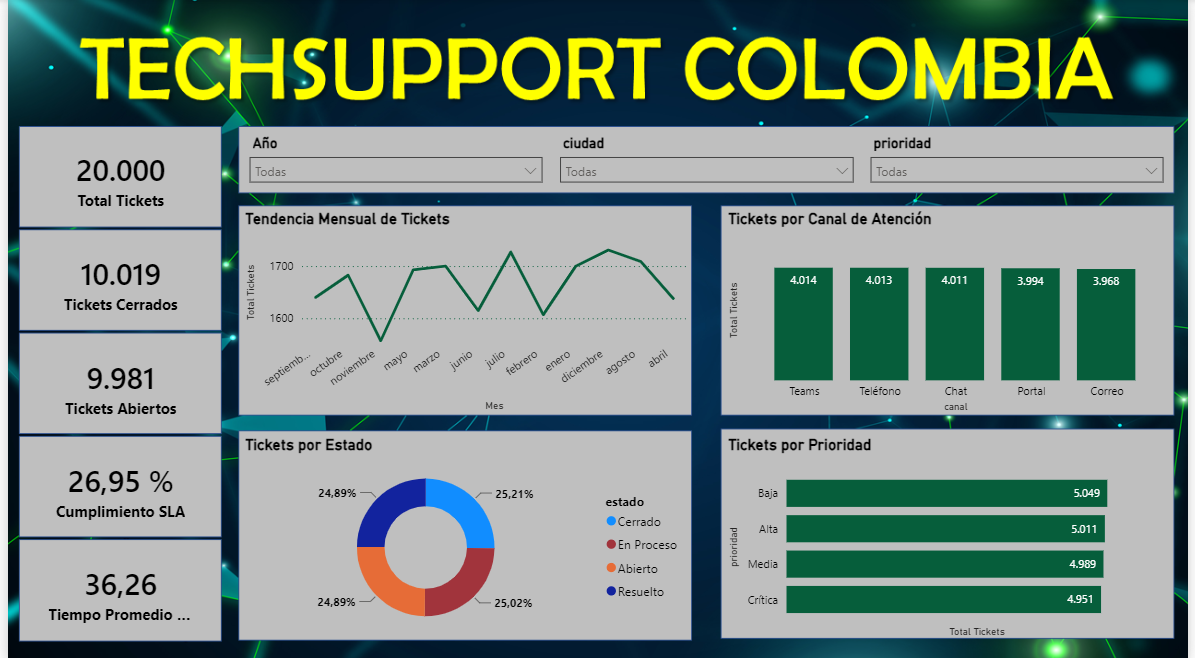

The page's visual inventory and layout, read from the dashboard file:
{"tool":"powerbi","page":{"name":"Resumen Ejecutivo","canvas":[1280,720],"ordinal":0},"visuals":[{"type":"cardVisual","fields":{"Data":["Medidas.Total Tickets"]},"box":[14.5,141.2,215.3,109.9],"z":0},{"type":"cardVisual","fields":{"Data":["Medidas.Tickets Cerrados"]},"box":[14.5,253.4,215.3,110.7],"z":1000},{"type":"cardVisual","fields":{"Data":["Medidas.Tickets Abiertos"]},"box":[14.5,365.6,215.3,110.7],"z":2000},{"type":"cardVisual","fields":{"Data":["Medidas.Cumplimiento SLA"]},"box":[14.5,477.9,215.3,110.7],"z":3000},{"type":"cardVisual","fields":{"Data":["Medidas.Tiempo Promedio"]},"box":[14.5,590.1,215.3,107.6],"z":4000},{"type":"donutChart","title":"Tickets por Estado","fields":{"Category":["tickets.estado"],"Y":["Medidas.Total Tickets"]},"box":[251.9,472.8,487.9,222.7],"z":5000},{"type":"clusteredBarChart","title":"Tickets por Prioridad","fields":{"Category":["tickets.prioridad"],"Y":["Medidas.Total Tickets"]},"box":[775.9,473.3,486.3,222.8],"z":6000},{"type":"lineChart","title":"Tendencia Mensual de Tickets","fields":{"Category":["Calendario.Mes"],"Y":["Medidas.Total Tickets"]},"box":[251.6,228.4,488.1,223.5],"z":7000},{"type":"clusteredColumnChart","title":"Tickets por Canal de Atención","fields":{"Category":["tickets.canal"],"Y":["Medidas.Total Tickets"]},"box":[775.9,227.7,486.3,224.5],"z":8000},{"type":"slicer","fields":{"Values":["Calendario.Date.Variación.Jerarquía de fechas.Año"]},"box":[251.8,141.5,337,68.2],"z":9000},{"type":"slicer","fields":{"Values":["tickets.prioridad"]},"box":[926,141.5,337,69.8],"z":10000},{"type":"slicer","fields":{"Values":["usuarios.ciudad"]},"box":[588.2,141.5,338.3,68.3],"z":11000}]}

Visuals, with their boxes in screenshot pixels (x1, y1, x2, y2), scaled from the page's 1280x720 canvas onto the 1195x658 screenshot:
cardVisual - Medidas.Total Tickets: 14:129:215:229
cardVisual - Medidas.Tickets Cerrados: 14:232:215:333
cardVisual - Medidas.Tickets Abiertos: 14:334:215:435
cardVisual - Medidas.Cumplimiento SLA: 14:437:215:538
cardVisual - Medidas.Tiempo Promedio: 14:539:215:638
"Tickets por Estado" donutChart: 235:432:691:636
"Tickets por Prioridad" clusteredBarChart: 724:433:1178:636
"Tendencia Mensual de Tickets" lineChart: 235:209:691:413
"Tickets por Canal de Atención" clusteredColumnChart: 724:208:1178:413
slicer - Calendario.Date.Variación.Jerarquía de fechas.Año: 235:129:550:192
slicer - tickets.prioridad: 865:129:1179:193
slicer - usuarios.ciudad: 549:129:865:192
